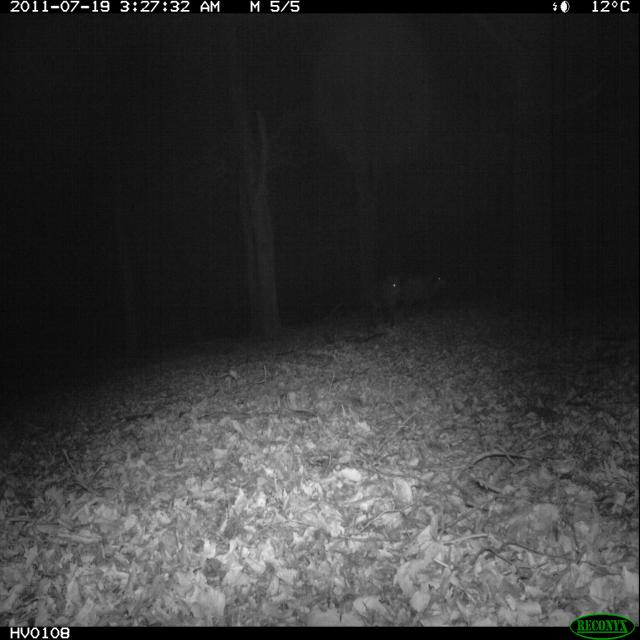boar: (363, 259, 422, 333)
